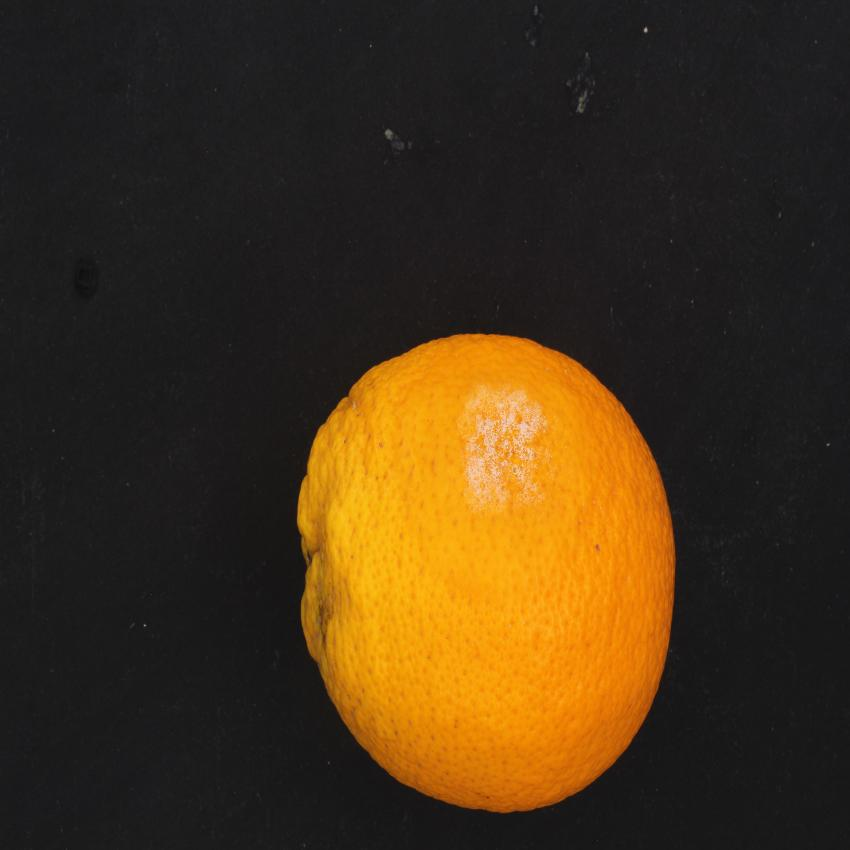Mal estado: (289, 318, 706, 829)
